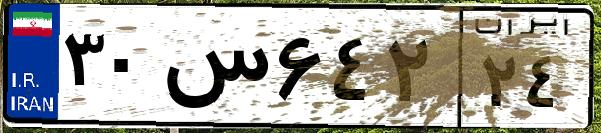0: (110, 28, 158, 98)
2: (385, 28, 445, 110), (475, 38, 525, 113)
3: (57, 26, 110, 100)
4: (330, 28, 385, 110), (525, 38, 570, 115)
6: (270, 28, 330, 110)
س: (158, 20, 270, 120)
